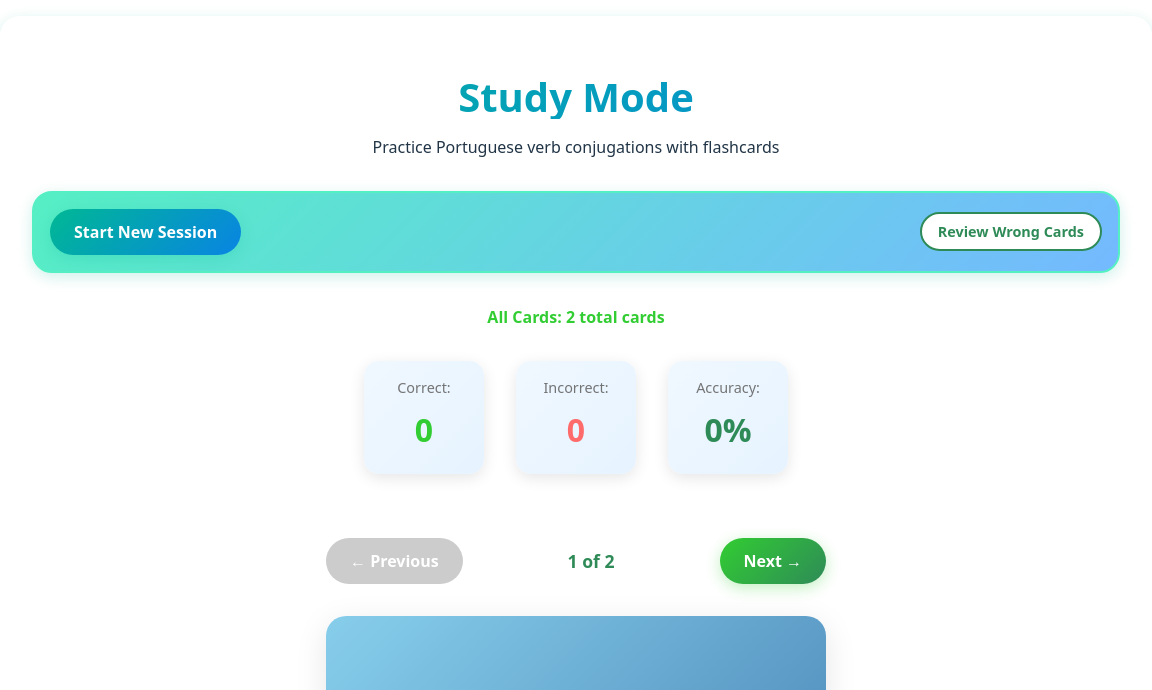
Scenario: Study Page › Navigation › navigates between cards correctly
This screenshot has width=1152, height=690.
expect the text "1 of 2" is shown: met, box [568,548,615,575]
expect the button "← Previous" is disabled: met, box [326,538,463,584]
// Navigate to next card
What coordinates should you click on to do the following:
click the button "Next →"
I would click on:
 (773, 561)
Its box is [720,538,826,584].
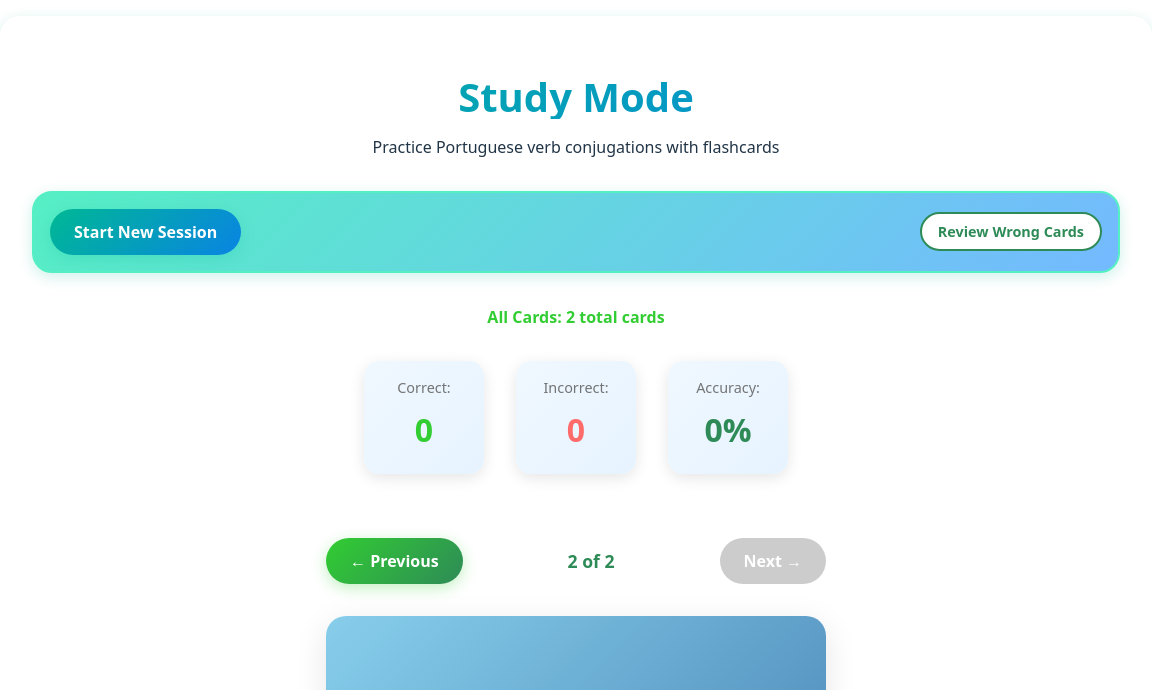
expect the text "2 of 2" is shown: met, box [568,548,615,575]
expect the button "← Previous" is enabled: met, box [326,538,463,584]
expect the button "Next →" is disabled: met, box [720,538,826,584]
